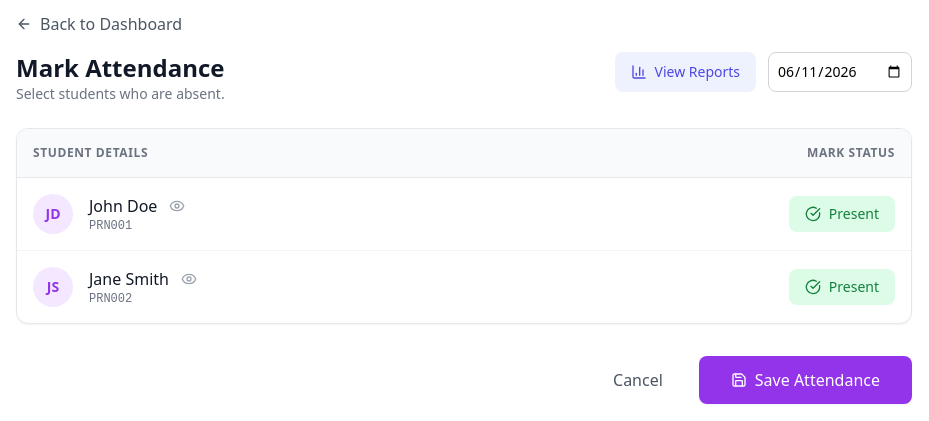
Test: AttendanceSheet Component › toggles attendance status when status button is clicked
This screenshot has width=929, height=421.
Click the button "Present" in the row of "Doe".
click(842, 214)  # box left=789, top=196, right=895, bottom=232
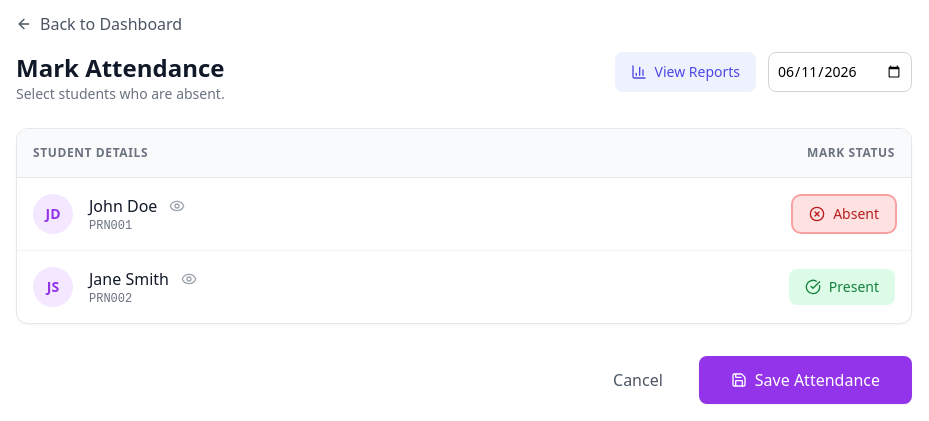
Expected: the button named "Present" reads "Absent", left=793, top=196, right=895, bottom=232
